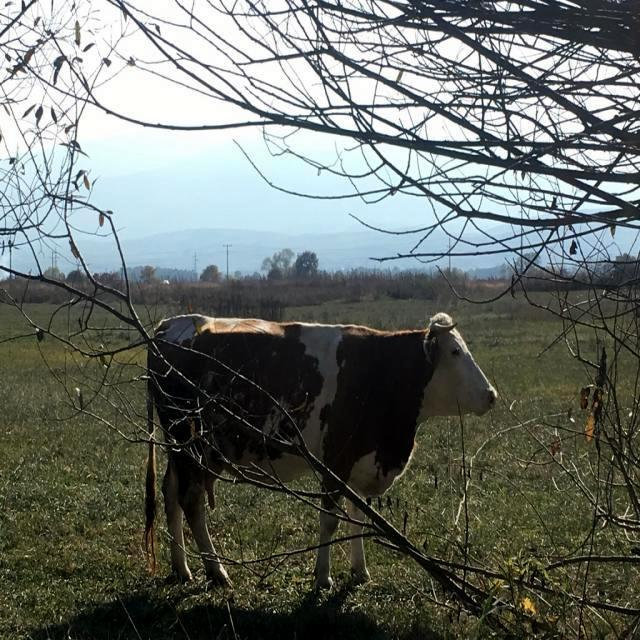COW: (145, 312, 498, 588)
